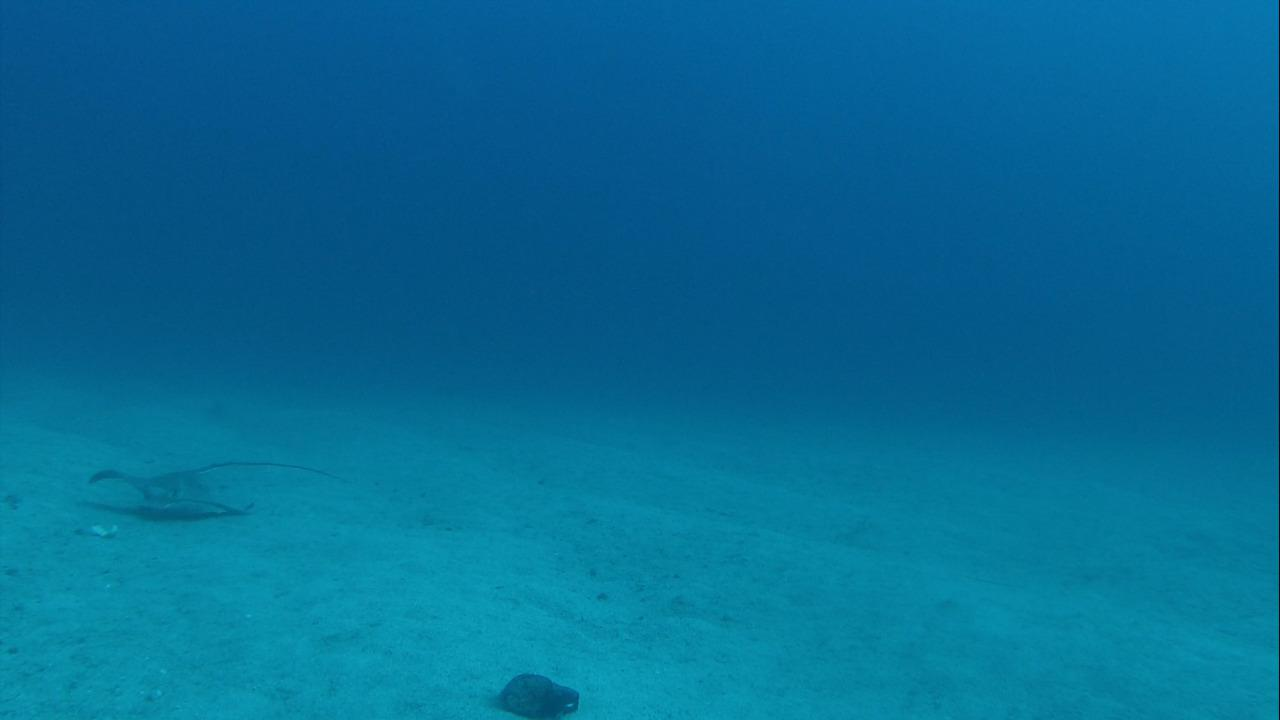myliobatis: (79, 450, 367, 523)
